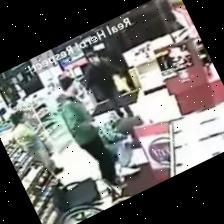person: (56, 77, 123, 186), (10, 111, 62, 174), (84, 53, 132, 117)
